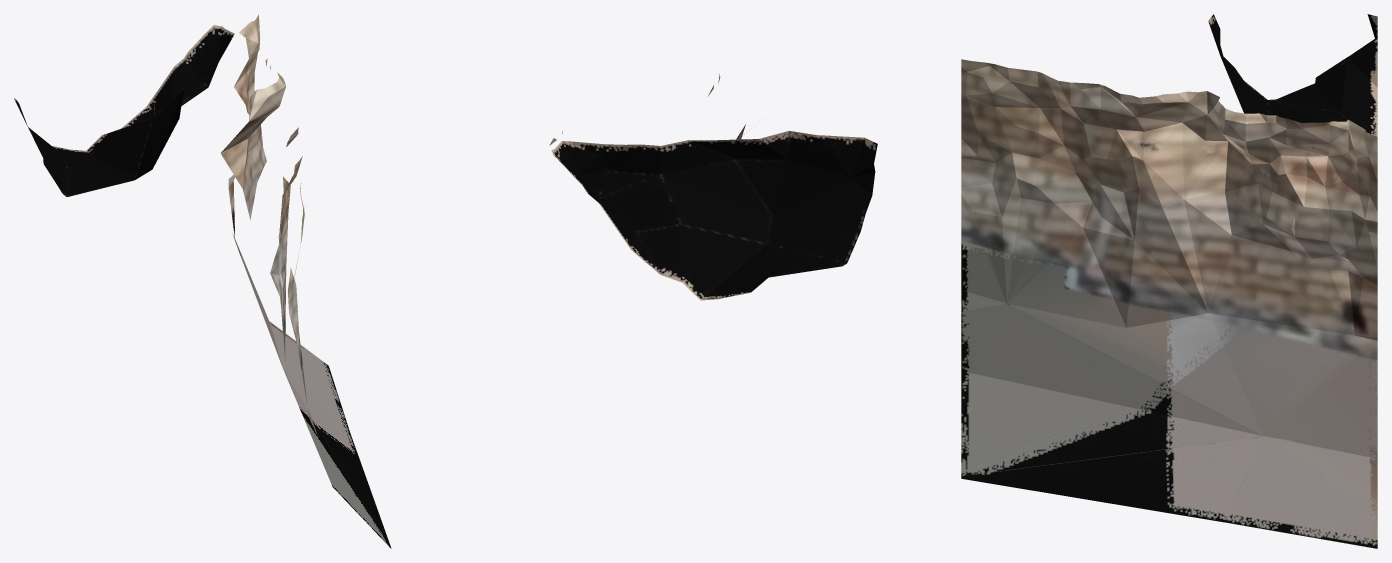
The picture shows the model from 3 angles, left to right: view 1: azimuth 30°, elevation 25°; view 2: azimuth 150°, elevation 25°; view 3: azimuth 270°, elevation 25°; orthographic projection. The views are drawn at different scales.
Size of the model in its own units: 1.5 by 1.67 by 1.67.
Materials: 4 (4 with a texture image).
